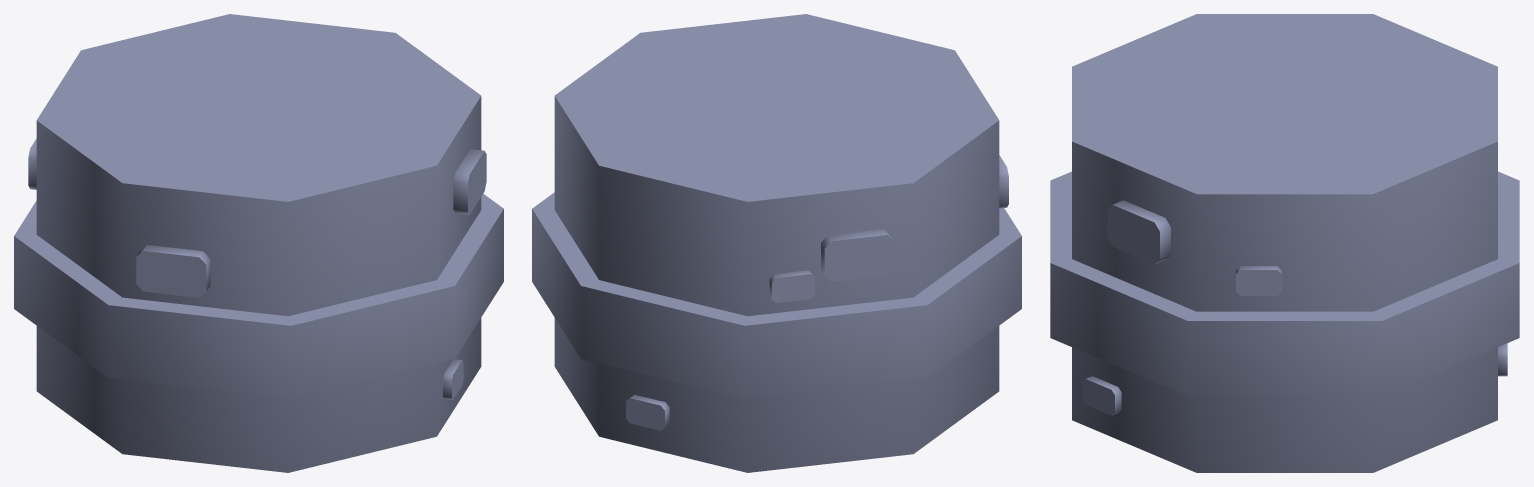
File: tower-middle.glb
3 renders of one model, left to right at view 1: azimuth 30°, elevation 25°; view 2: azimuth 150°, elevation 25°; view 3: azimuth 270°, elevation 25°, orthographic. The views are drawn at different scales.
Parts seen in each view (by area): view 1: tower-middle; view 2: tower-middle; view 3: tower-middle.
Part boxes in pixels (x1,y1,x2,y2): tower-middle: (14, 14, 503, 472); tower-middle: (532, 14, 1021, 472); tower-middle: (1050, 14, 1519, 472).
Size of the model in its own units: 3.05 by 2 by 3.05.
